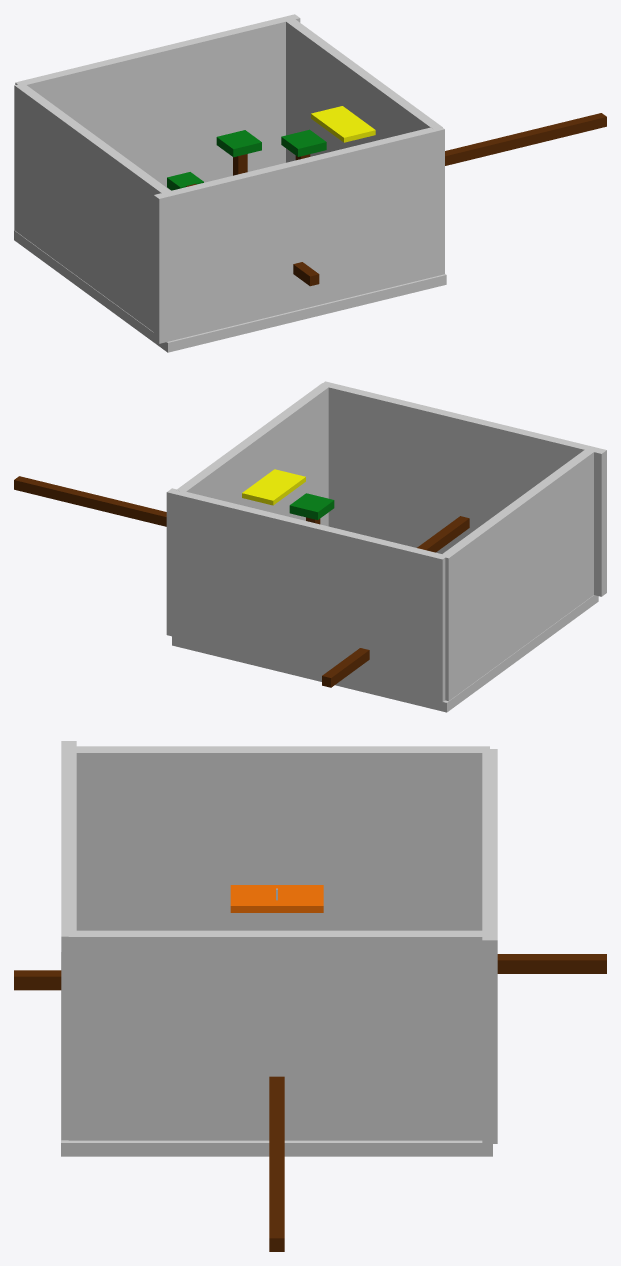
The model's file is Level_Concept_4.fbx.
3 renders of one model, top to bottom at view 1: azimuth 30°, elevation 25°; view 2: azimuth 150°, elevation 25°; view 3: azimuth 270°, elevation 25°, orthographic. The views are drawn at different scales.
Visible parts, largest first — view 1: Cube__3_, Cube__4_, Cube__2_, Cube__1_, Cube, Cube__3__1, Goal, Cube__8_, Cube__9_; view 2: Cube__4_, Cube__3_, Cube__2_, Cube__1_, Cube, Cube__3__1, Goal, Cube__9_, Cube_1, Cube__7_; view 3: Cube__1_, Cube__2_, Cube, Cube__4_, Cube__3_, Cube__3__1, Start, Cube_1, Cube__7_.
Boxes of the visible parts, x1=… form: Cube__3_: x1=153, y1=127, x2=444, y2=343; Cube__4_: x1=15, y1=14, x2=300, y2=190; Cube__2_: x1=14, y1=83, x2=174, y2=331; Cube__1_: x1=285, y1=18, x2=442, y2=162; Cube: x1=14, y1=230, x2=446, y2=352; Cube__3__1: x1=445, y1=113, x2=606, y2=165; Goal: x1=311, y1=106, x2=375, y2=142; Cube__8_: x1=216, y1=130, x2=261, y2=157; Cube__9_: x1=281, y1=129, x2=326, y2=156; Cube__4_: x1=166, y1=488, x2=446, y2=702; Cube__3_: x1=323, y1=381, x2=606, y2=596; Cube__2_: x1=440, y1=449, x2=596, y2=701; Cube__1_: x1=176, y1=383, x2=330, y2=526; Cube: x1=172, y1=595, x2=598, y2=712; Cube__3__1: x1=14, y1=476, x2=166, y2=526; Goal: x1=242, y1=469, x2=305, y2=505; Cube__9_: x1=289, y1=493, x2=334, y2=519; Cube_1: x1=322, y1=648, x2=369, y2=687; Cube__7_: x1=417, y1=516, x2=469, y2=552; Cube__1_: x1=68, y1=930, x2=485, y2=1140; Cube__2_: x1=64, y1=746, x2=489, y2=930; Cube: x1=61, y1=952, x2=492, y2=1156; Cube__4_: x1=482, y1=749, x2=497, y2=1143; Cube__3_: x1=61, y1=741, x2=76, y2=1140; Cube__3__1: x1=269, y1=1076, x2=284, y2=1251; Start: x1=230, y1=885, x2=323, y2=912; Cube_1: x1=497, y1=954, x2=606, y2=973; Cube__7_: x1=14, y1=970, x2=61, y2=990.
Size of the model in its own units: 11136 by 3280 by 7806.
